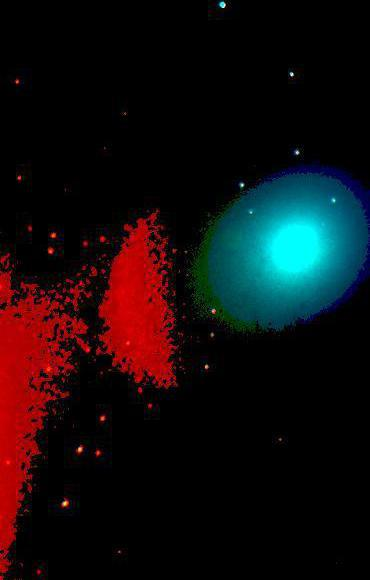star: (248, 224, 278, 254)
